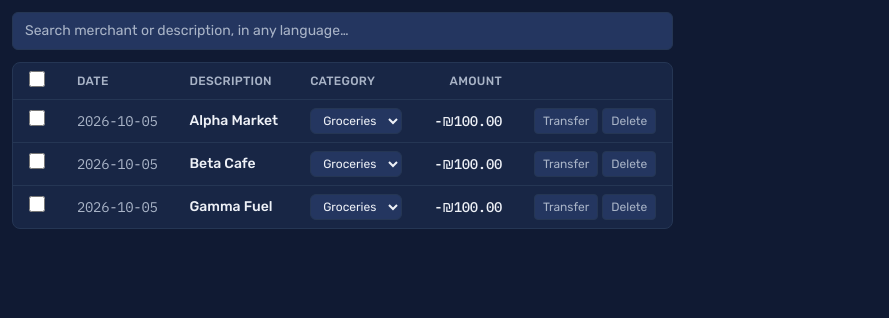
selecting transactions › ticking rows brings up the bar with the count, and Select all ticks every shown row
Expected: the text "selected" is not shown
Step 1. Click the checkbox named "Select Alpha Market" → point(37, 118), box [29,110,45,126]
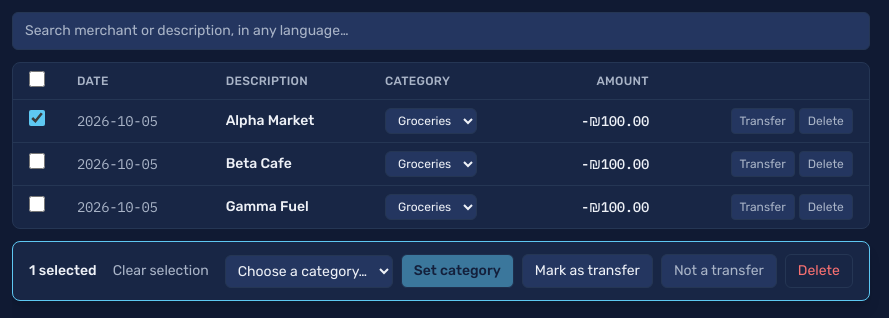
Expected: the text "1 selected" is shown, [29,261,97,281]
Step 2. Click the checkbox named "Select all shown transactions" → point(37, 79), box [29,71,45,87]
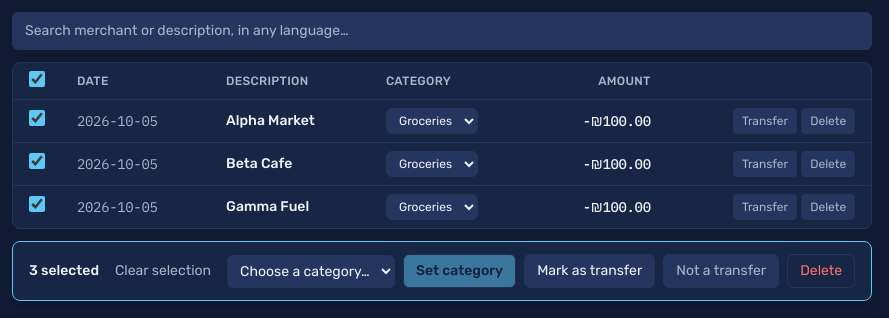
Expected: the text "3 selected" is shown, [29,261,99,281]
Step 3. Click the checkbox named "Select all shown transactions" → point(37, 79), box [29,71,45,87]
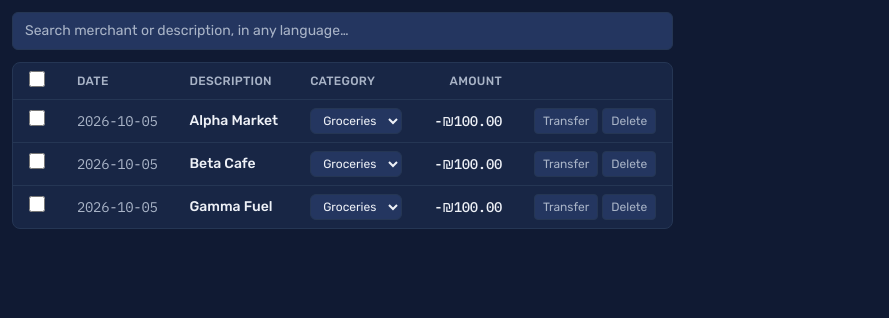
Expected: the text "selected" is gone
